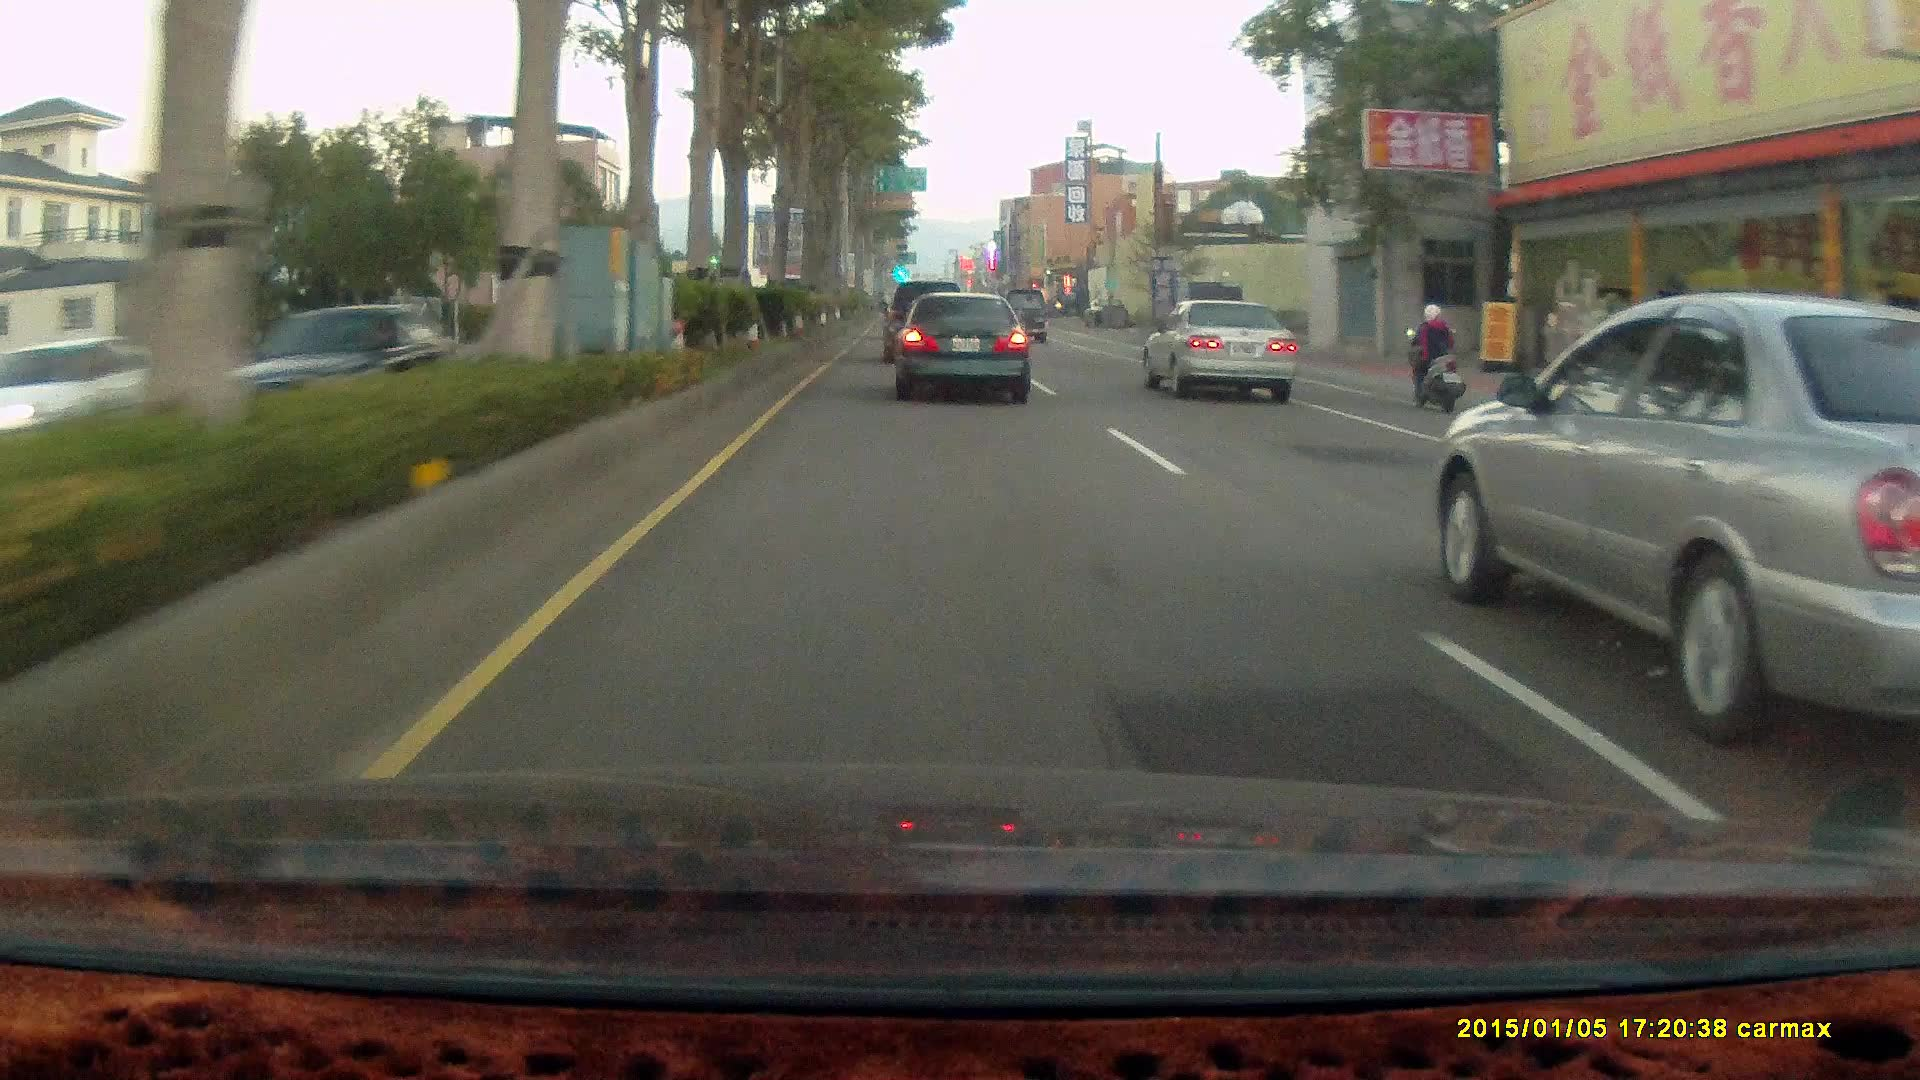rider: (1395, 291, 1475, 424), (1402, 297, 1467, 412)
vehicle: (1428, 289, 1920, 743), (218, 300, 467, 419), (0, 332, 172, 462), (1, 332, 202, 441), (1140, 297, 1301, 408), (892, 290, 1033, 408), (1140, 295, 1296, 401), (891, 286, 1031, 398), (884, 280, 973, 363), (881, 280, 963, 358), (1170, 276, 1244, 345), (999, 286, 1046, 343)
